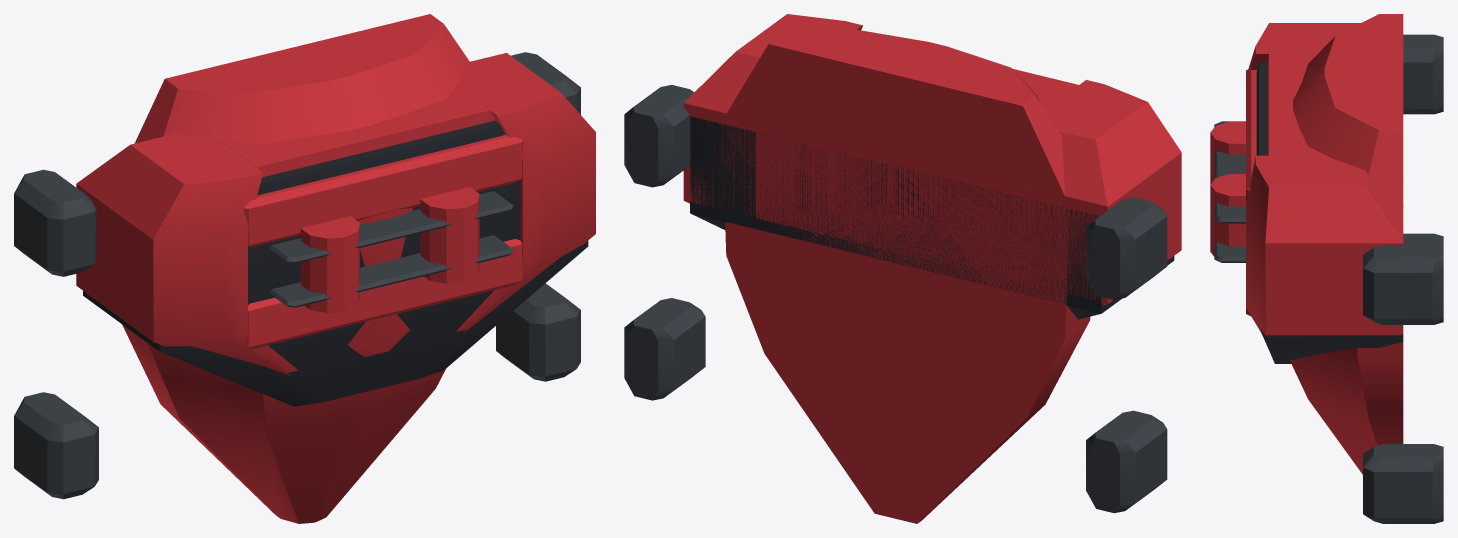
The model's file is UpperArmBack_Set08_Goliath.fbx.
3 views of the same model, side by side, from view 1: azimuth 30°, elevation 25°; view 2: azimuth 150°, elevation 25°; view 3: azimuth 270°, elevation 25° (orthographic). The views are drawn at different scales.
Parts seen in each view (by area): view 1: UpperArmBack_Set08_Goliath; view 2: UpperArmBack_Set08_Goliath; view 3: UpperArmBack_Set08_Goliath.
Boxes of the visible parts, left/top/right/bottom form: UpperArmBack_Set08_Goliath: left=14, top=14, right=595, bottom=523; UpperArmBack_Set08_Goliath: left=624, top=14, right=1181, bottom=523; UpperArmBack_Set08_Goliath: left=1210, top=14, right=1443, bottom=523.
Size of the model in its own units: 0.41 by 0.34 by 0.1735.
